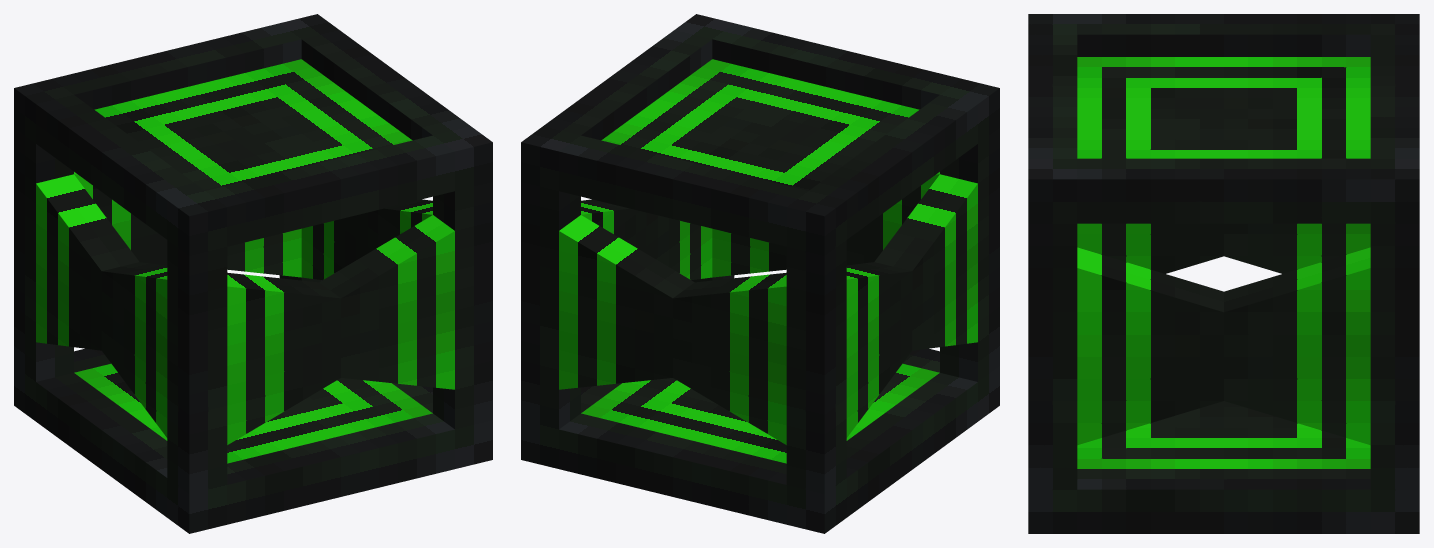
Rendered from mithriline_furnace.obj.
The picture shows the model from 3 angles, left to right: view 1: azimuth 30°, elevation 25°; view 2: azimuth 150°, elevation 25°; view 3: azimuth 270°, elevation 25°; orthographic projection. The views are drawn at different scales.
Parts seen in each view (by area): view 1: Model; view 2: Model; view 3: Model.
Part boxes in pixels (left/top/right/bottom): Model: left=14, top=14, right=492, bottom=533; Model: left=521, top=14, right=999, bottom=533; Model: left=1028, top=14, right=1419, bottom=533.
Bounding box in the file's own units: 1 × 1 × 1.
